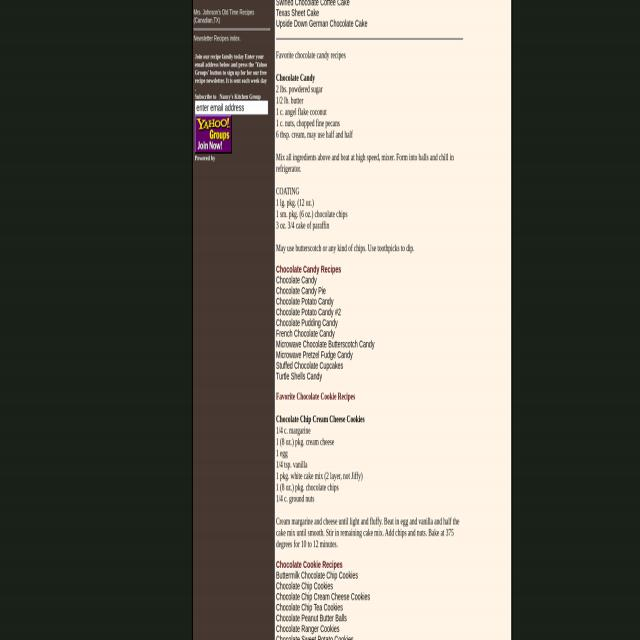button: (194, 115, 232, 153)
field: (195, 100, 268, 116)
